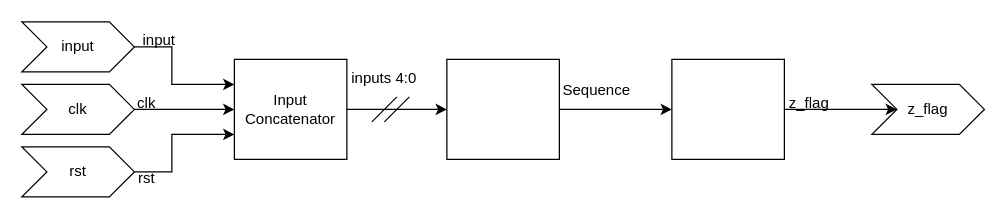
Some shapes in this 1006 by 219 pixel diagram are drawn without their labels. Here are the shapes that lost their labels. From the top down, the centre of each, then its label:
At point (502, 108): "FSM 1: Sequence Detector".
At point (727, 108): "FSM 2: Clock Counter".
